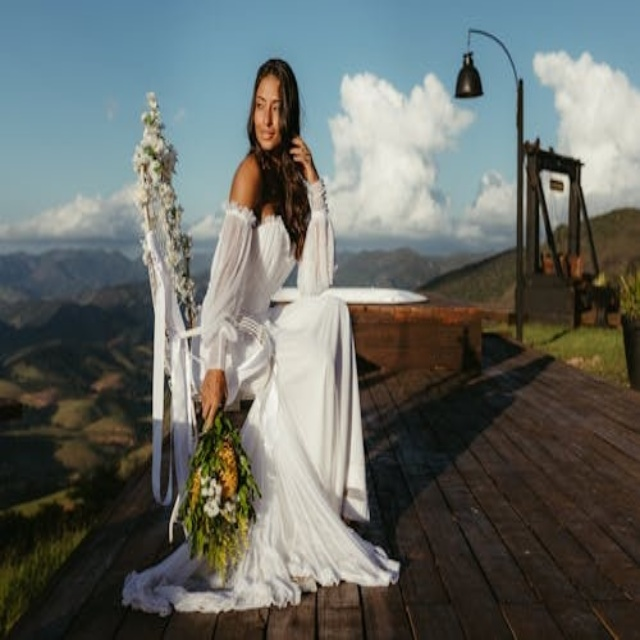Sin_gafas: (251, 86, 279, 115)
Sin_guantes: (195, 361, 229, 436), (291, 136, 317, 181)
Sin_mascara: (255, 125, 276, 152)
